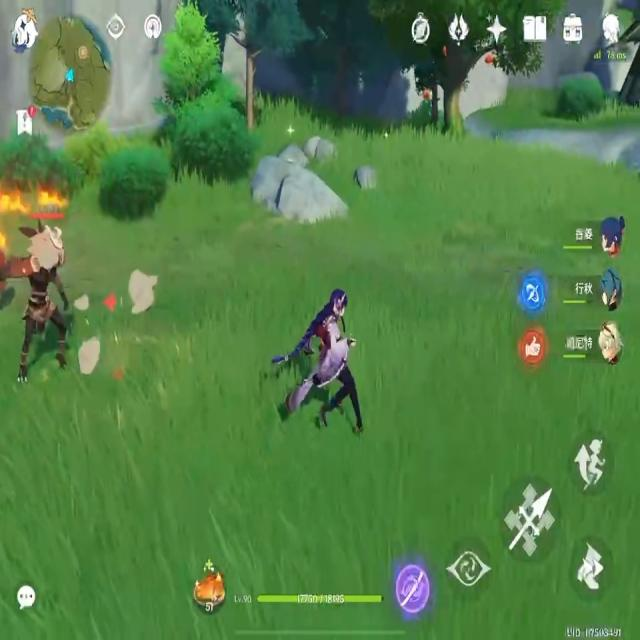genshin-hilichurls: (4, 200, 83, 387)
